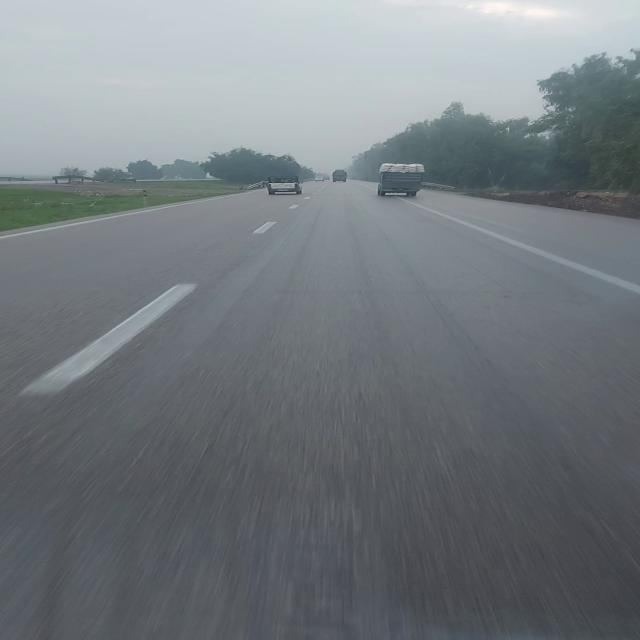Pickup: (375, 162, 429, 200), (264, 172, 307, 196)
